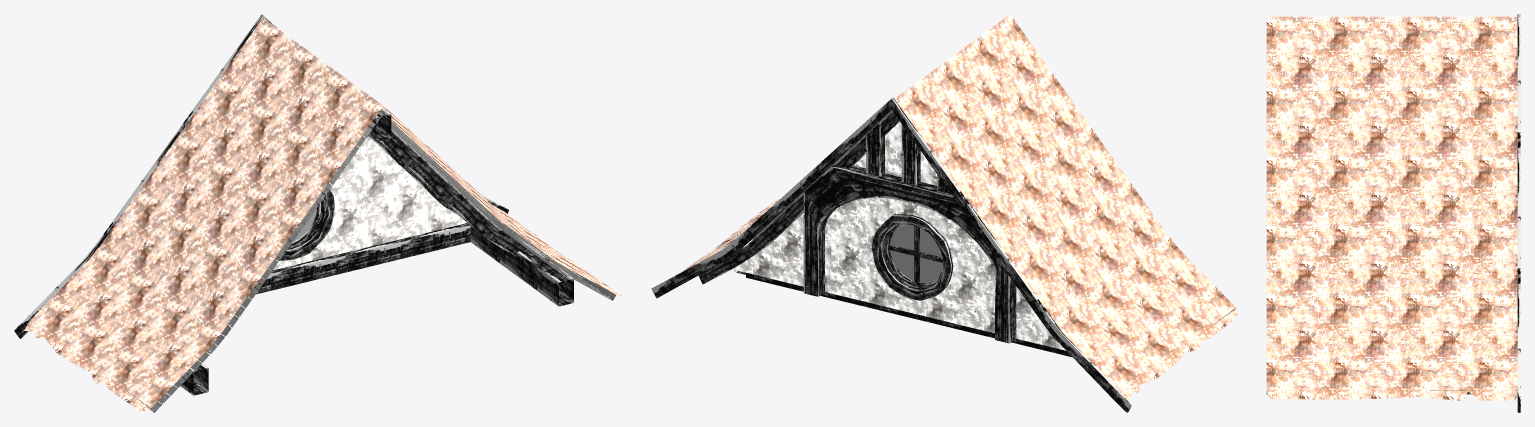
File: SM_roof_B_part_01.fbx
3 renders of one model, left to right at view 1: azimuth 30°, elevation 25°; view 2: azimuth 150°, elevation 25°; view 3: azimuth 270°, elevation 25°, orthographic. The views are drawn at different scales.
Parts seen in each view (by area): view 1: SM_roof_B_part_01_LOD0; view 2: SM_roof_B_part_01_LOD0; view 3: SM_roof_B_part_01_LOD0.
Part boxes in pixels (<box>): SM_roof_B_part_01_LOD0: <box>14,14,621,412</box>; SM_roof_B_part_01_LOD0: <box>651,14,1237,412</box>; SM_roof_B_part_01_LOD0: <box>1266,14,1520,412</box>.
Bounding box in the file's own units: 1649 × 706 × 845.
8 materials, 7 textured.
